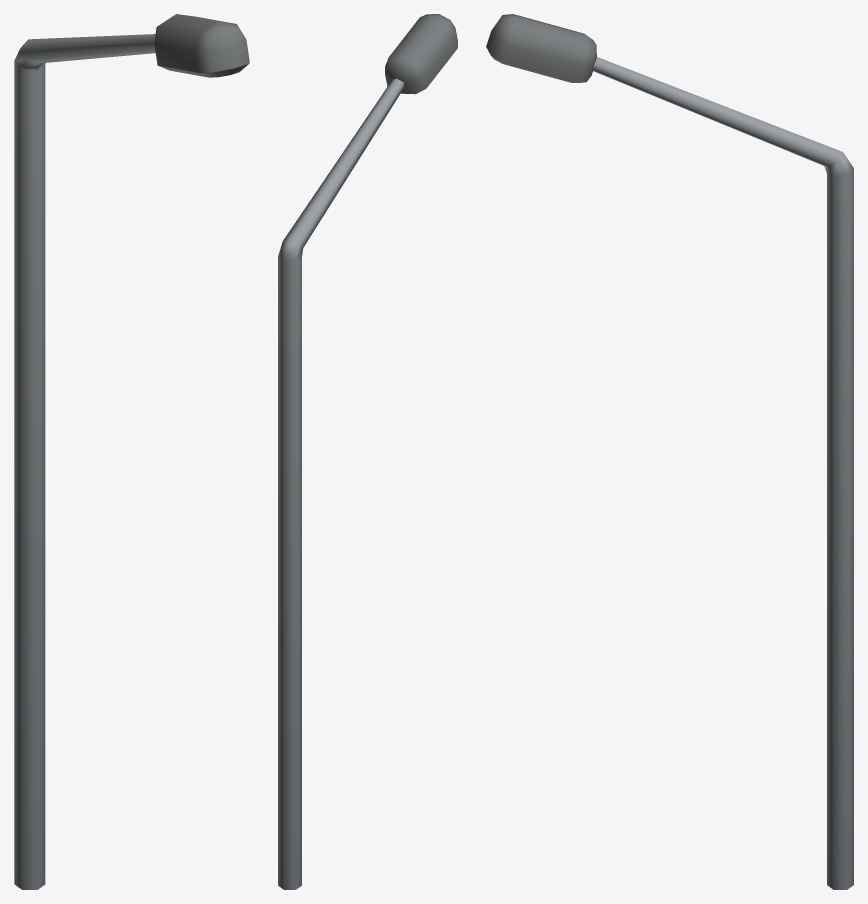
Rendered from Spotlight_01.glb.
The picture shows the model from 3 angles, left to right: view 1: azimuth 30°, elevation 25°; view 2: azimuth 150°, elevation 25°; view 3: azimuth 270°, elevation 25°; orthographic projection. The views are drawn at different scales.
Visible parts, largest first — view 1: Spotlight_01; view 2: Spotlight_01; view 3: Spotlight_01.
Part boxes in pixels (x1=…): Spotlight_01: x1=14, y1=14, x2=249, y2=889; Spotlight_01: x1=278, y1=14, x2=457, y2=889; Spotlight_01: x1=486, y1=14, x2=853, y2=889.
Size of the model in its own units: 0.4426 by 8.3 by 3.19.
Materials: 2 (2 with a texture image).
